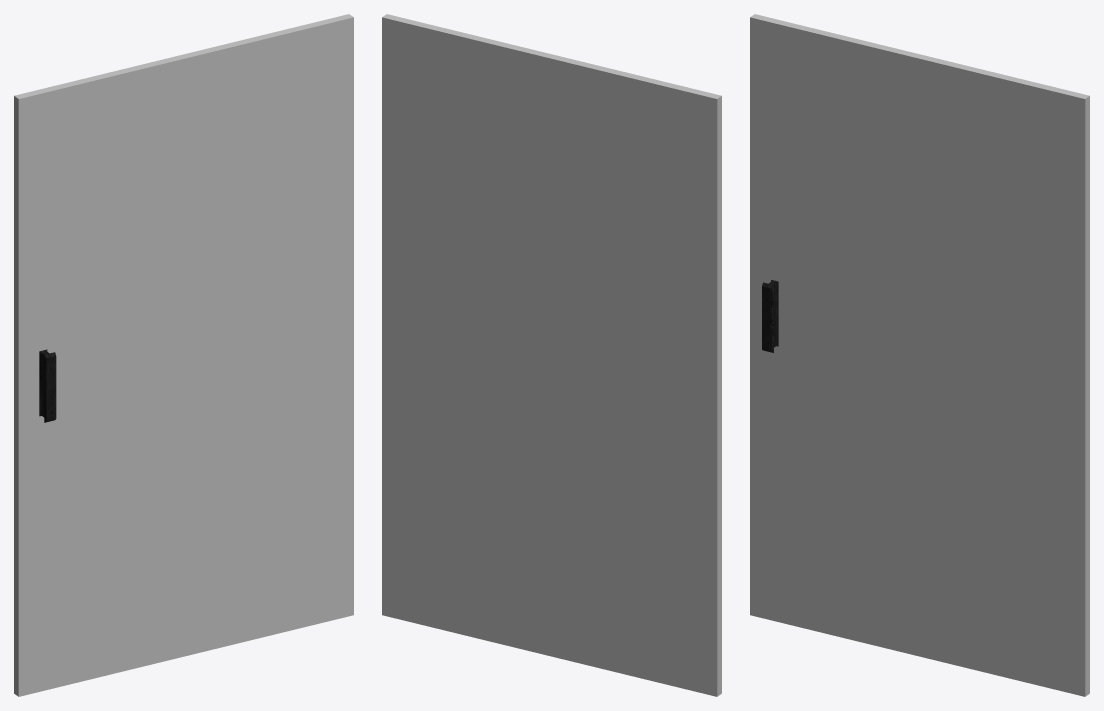
The model's file is keuken1_DoorRight2.fbx.
The picture shows the model from 3 angles, left to right: view 1: azimuth 30°, elevation 25°; view 2: azimuth 150°, elevation 25°; view 3: azimuth 330°, elevation 25°; orthographic projection.
Parts seen in each view (by area): view 1: Cube.005; view 2: Cube.005; view 3: Cube.005.
Part boxes in pixels (left/top/right/bottom): Cube.005: left=14, top=14, right=353, bottom=696; Cube.005: left=382, top=14, right=721, bottom=696; Cube.005: left=750, top=14, right=1089, bottom=696.
Size of the model in its own units: 47.01 by 80.15 by 3.05.
